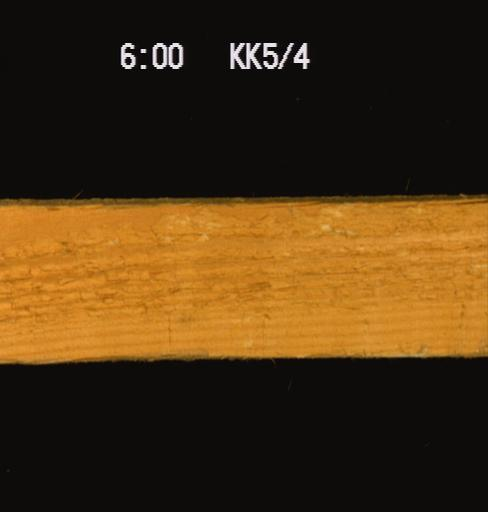split: (387, 196, 486, 211), (244, 198, 331, 211)
